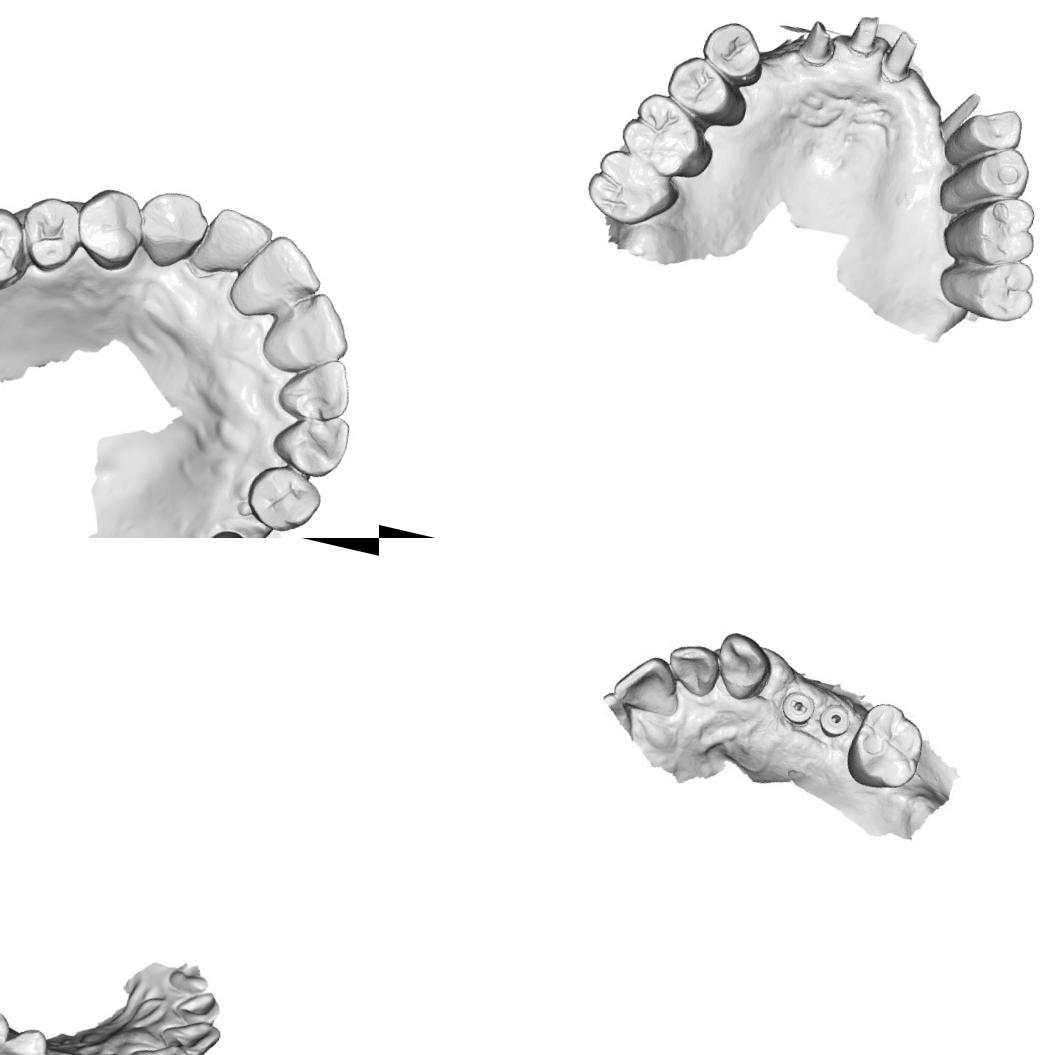canine: (126, 182, 214, 278), (264, 404, 357, 487), (708, 628, 774, 706)
crown: (935, 86, 982, 148), (876, 26, 920, 86), (794, 15, 842, 70), (842, 10, 886, 60)
implant: (816, 698, 856, 744)
implant_minus: (779, 688, 818, 726), (199, 525, 265, 538)
incisor: (266, 282, 361, 378), (237, 227, 332, 322), (271, 346, 360, 429), (194, 201, 280, 285), (608, 648, 688, 720), (660, 638, 722, 702), (152, 1012, 222, 1055), (171, 985, 224, 1030), (120, 1034, 193, 1055)
molar: (614, 87, 724, 186), (938, 183, 1044, 276), (837, 695, 930, 798), (580, 144, 686, 234), (933, 244, 1041, 329), (0, 195, 37, 302)
premolar: (934, 134, 1035, 230), (68, 180, 152, 277), (661, 50, 756, 132), (11, 185, 88, 278), (940, 97, 1027, 179), (239, 457, 326, 538), (696, 16, 772, 91), (0, 1021, 57, 1055)
